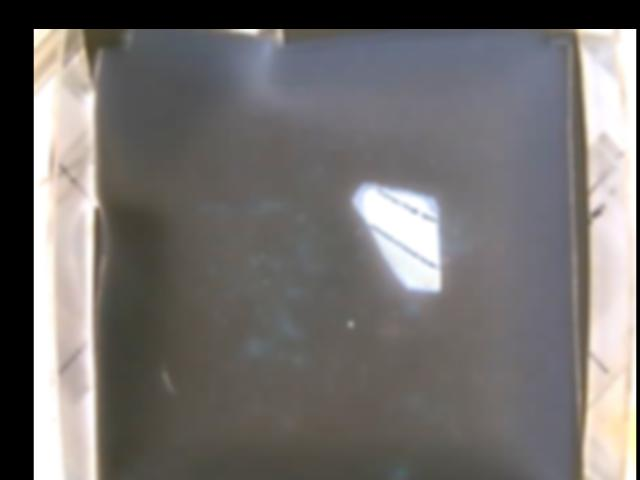China: (351, 180, 439, 292)
